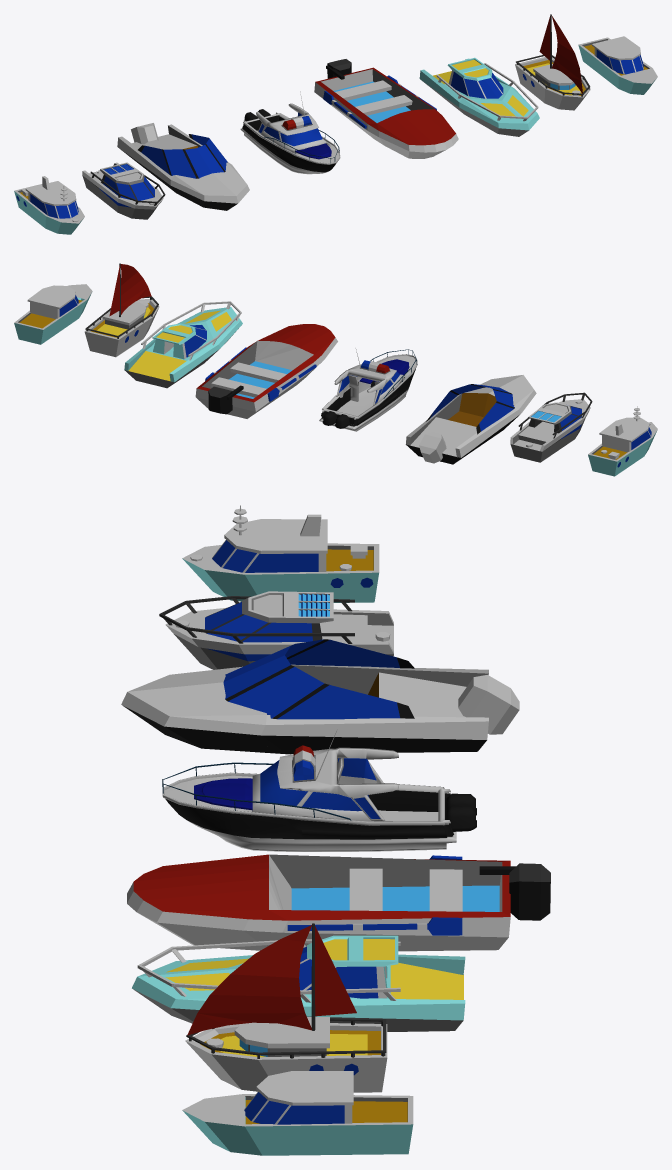
File: Boats.fbx
3 renders of one model, top to bottom at view 1: azimuth 30°, elevation 25°; view 2: azimuth 150°, elevation 25°; view 3: azimuth 270°, elevation 25°, orthographic. The views are drawn at different scales.
Parts seen in each view (by area): view 1: Boat_04, Boat_03, Boat_05, Boat_08, Boat_06, Boat_02, Boat_07, Boat_01; view 2: Boat_04, Boat_03, Boat_05, Boat_08, Boat_06, Boat_02, Boat_07, Boat_01; view 3: Boat_04, Boat_03, Boat_08, Boat_06, Boat_05, Boat_07, Boat_01, Boat_02.
Part boxes in pixels (bbox=[...]): Boat_04: bbox=[314, 59, 458, 158]; Boat_03: bbox=[117, 123, 249, 210]; Boat_05: bbox=[419, 57, 539, 136]; Boat_08: bbox=[240, 91, 340, 174]; Boat_06: bbox=[515, 14, 590, 110]; Boat_02: bbox=[82, 162, 165, 219]; Boat_07: bbox=[578, 36, 657, 94]; Boat_01: bbox=[14, 176, 84, 234]; Boat_04: bbox=[195, 324, 337, 418]; Boat_03: bbox=[405, 375, 536, 464]; Boat_05: bbox=[124, 301, 242, 388]; Boat_08: bbox=[319, 348, 417, 431]; Boat_06: bbox=[84, 263, 159, 357]; Boat_02: bbox=[510, 392, 592, 462]; Boat_07: bbox=[14, 284, 92, 344]; Boat_01: bbox=[588, 406, 657, 476]; Boat_04: bbox=[127, 854, 550, 951]; Boat_03: bbox=[121, 639, 519, 754]; Boat_08: bbox=[162, 729, 476, 851]; Boat_06: bbox=[185, 923, 387, 1092]; Boat_05: bbox=[132, 935, 465, 1031]; Boat_07: bbox=[182, 1071, 413, 1155]; Boat_01: bbox=[182, 505, 379, 602]; Boat_02: bbox=[159, 591, 393, 669].
Bounding box in the file's own units: 6117 × 778 × 1901.
1 material, 1 textured.
